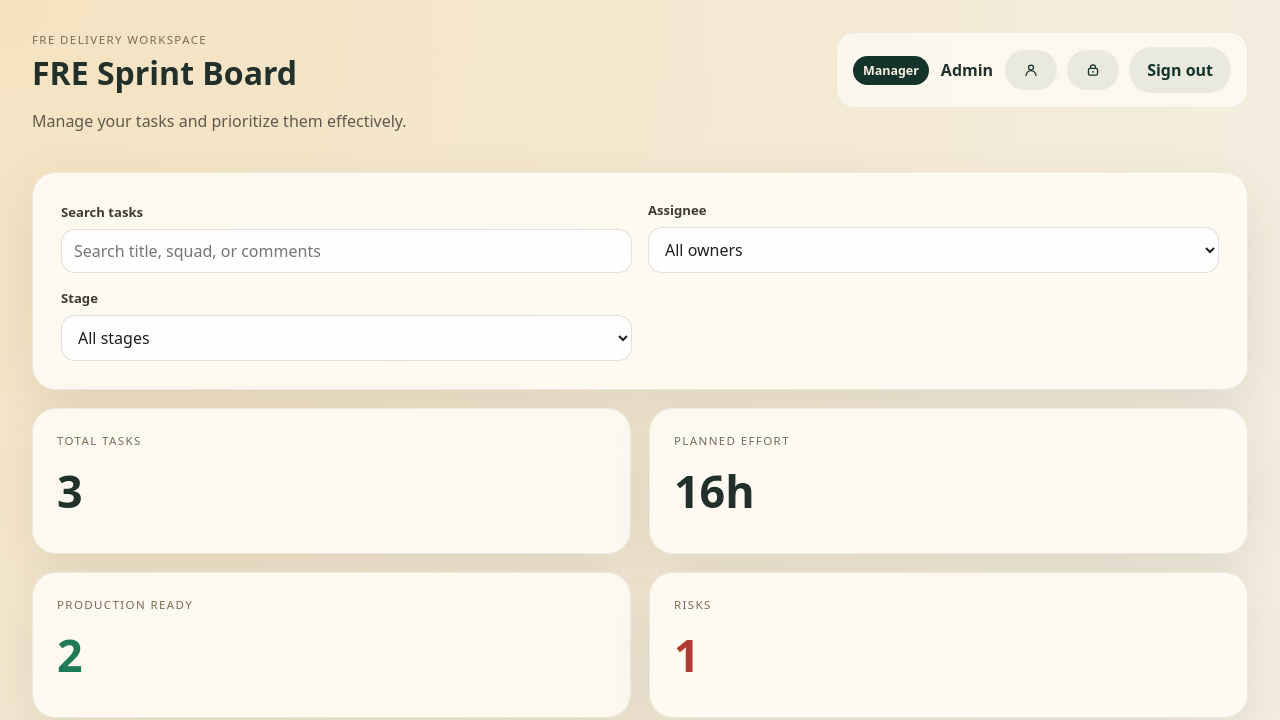
it: dashboard summary cards reflect the active filters
Expected: the text "Total tasks" is shown, [57,433,142,448]
Expected: the text "3" is shown, [57,460,83,521]
Select "Production" in the dropdown named "filter by stage" at (346, 338), box [61,315,632,361]
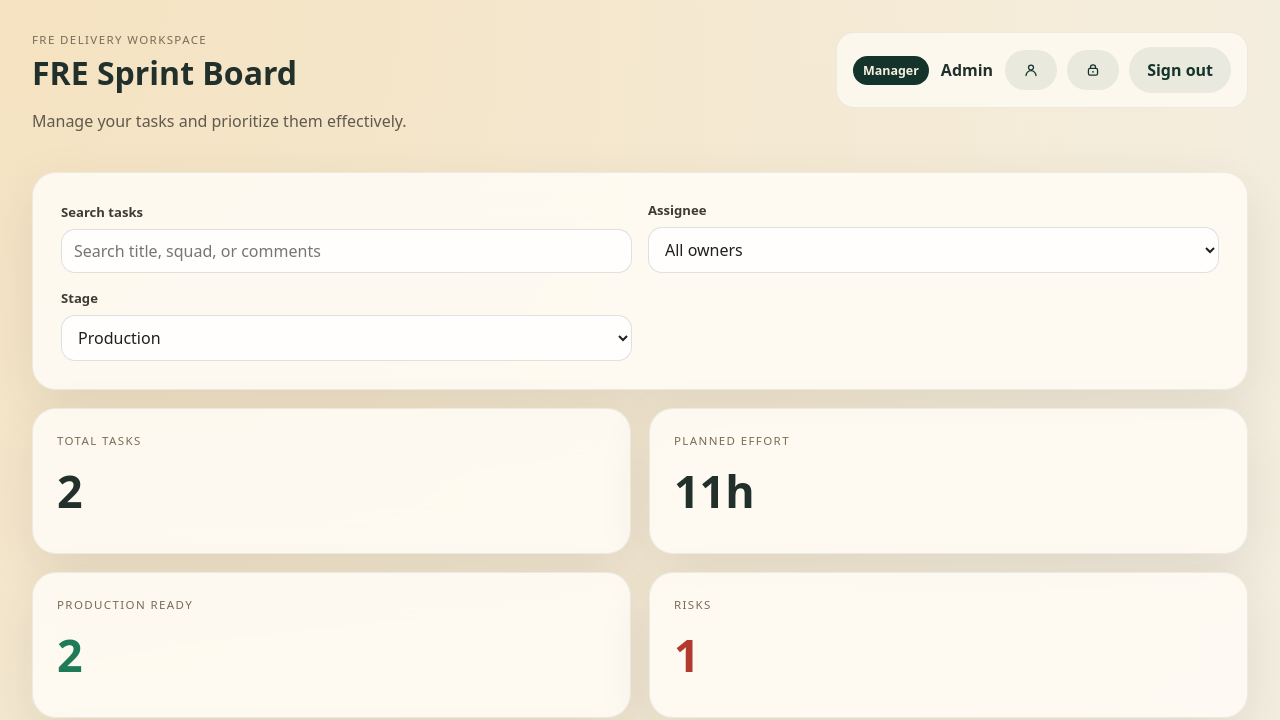
Expected: the text "Total tasks" is shown, [57,433,142,448]
Now the text "2" below "Total tasks" is shown, box [57,460,83,521]
Now the text "11h" is shown, box [674,460,755,521]
Type "gamma" into the search field labelled "Search tasks".
click(346, 251); type("gamma")  # box [61,229,632,273]
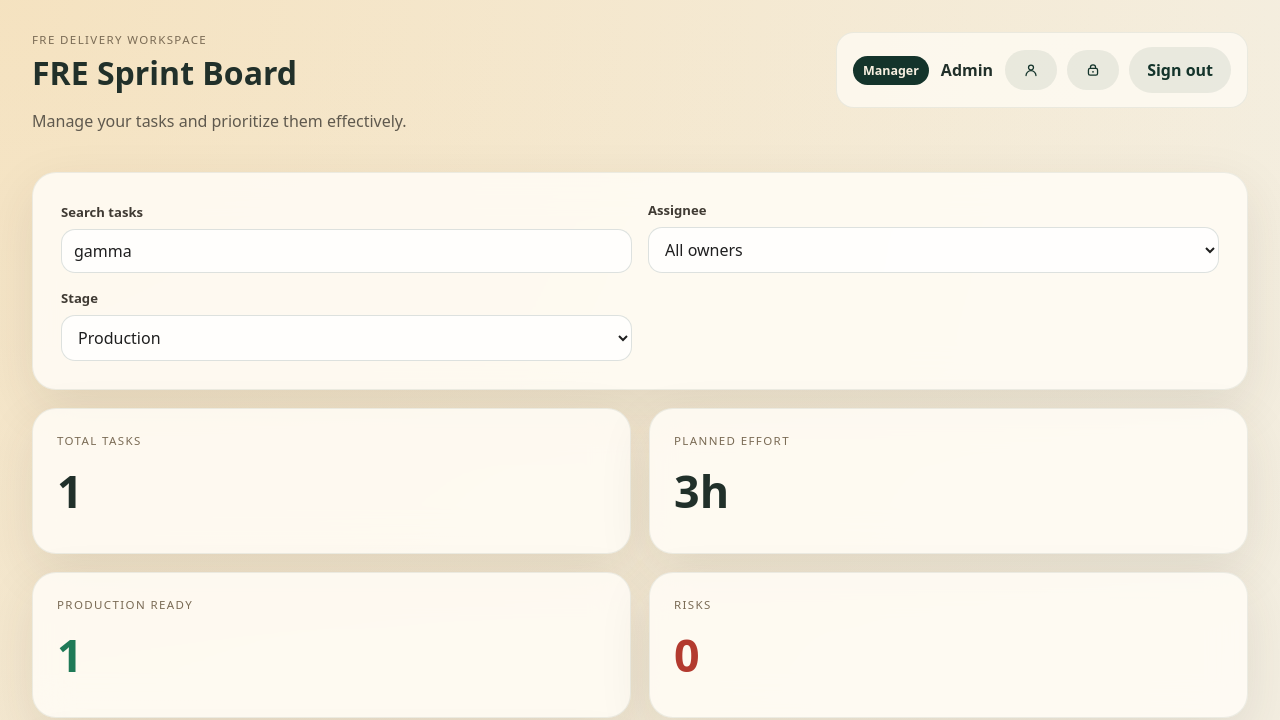
Now the text "1" below "Total tasks" is shown, box [57,460,83,521]
Now the text "3h" is shown, box [674,460,729,521]
Now the text "1" below "Production ready" is shown, box [57,624,83,685]
